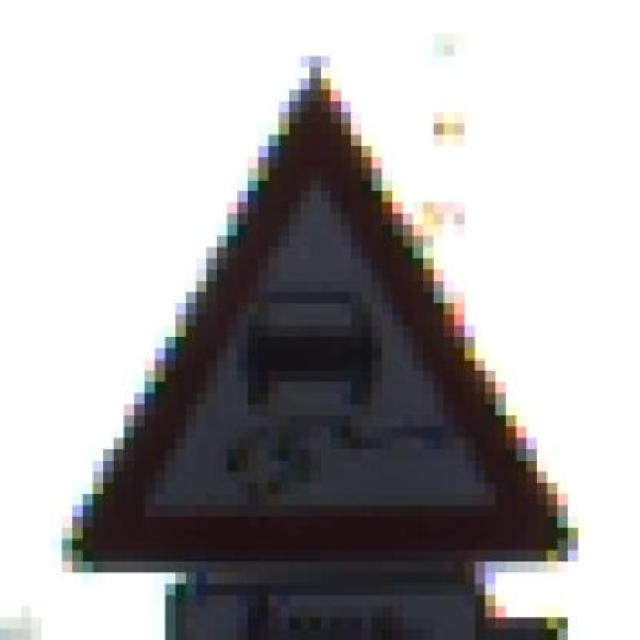Slippery Road Ahead: (51, 78, 588, 572)
